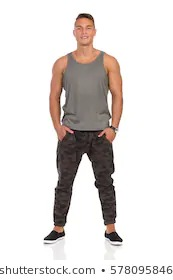C_tank top: (55, 47, 120, 139)
